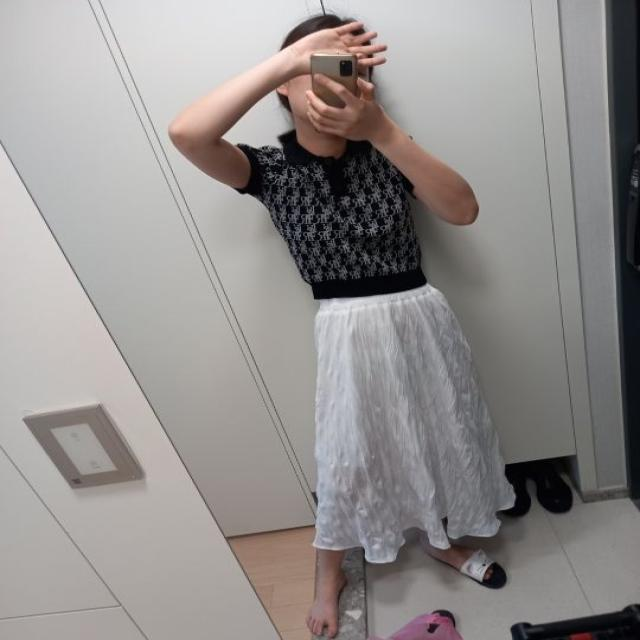shortsleeve: (237, 133, 433, 297)
skirt: (313, 274, 515, 556)
